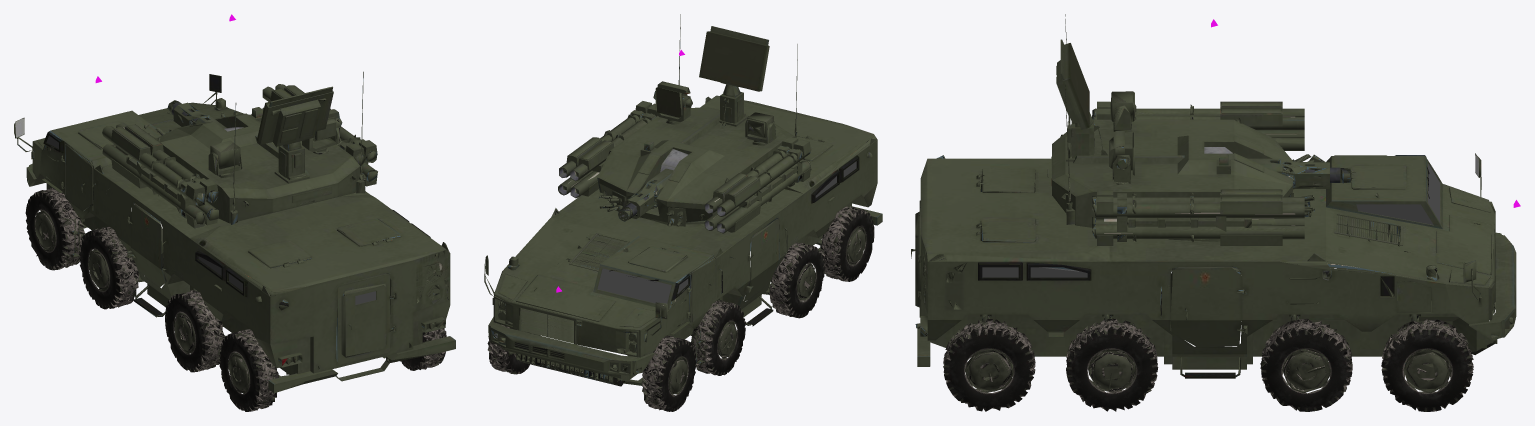
Rendered from spaag.glb.
3 renders of one model, left to right at view 1: azimuth 30°, elevation 25°; view 2: azimuth 150°, elevation 25°; view 3: azimuth 270°, elevation 25°, orthographic. The views are drawn at different scales.
Parts seen in each view (by area): view 1: Body_1, Turret_1, Body_2, Body_3; view 2: Body_1, Turret_1, Body_2, Body_3; view 3: Body_1, Body_2, Turret_1, Body_3.
Part boxes in pixels (x1,y1,x2,y2): Body_1: (14, 74, 455, 393); Turret_1: (148, 71, 365, 224); Body_2: (25, 187, 446, 411); Body_3: (46, 135, 375, 304); Body_1: (484, 95, 882, 386); Turret_1: (597, 14, 797, 227); Body_2: (487, 206, 874, 411); Body_3: (597, 126, 856, 303); Body_1: (911, 101, 1516, 378); Body_2: (943, 318, 1473, 411); Turret_1: (1047, 14, 1351, 227); Body_3: (982, 163, 1439, 277).
Bounding box in the file's own units: 8.75 × 12.43 × 20.15.
5 materials, 4 textured.
